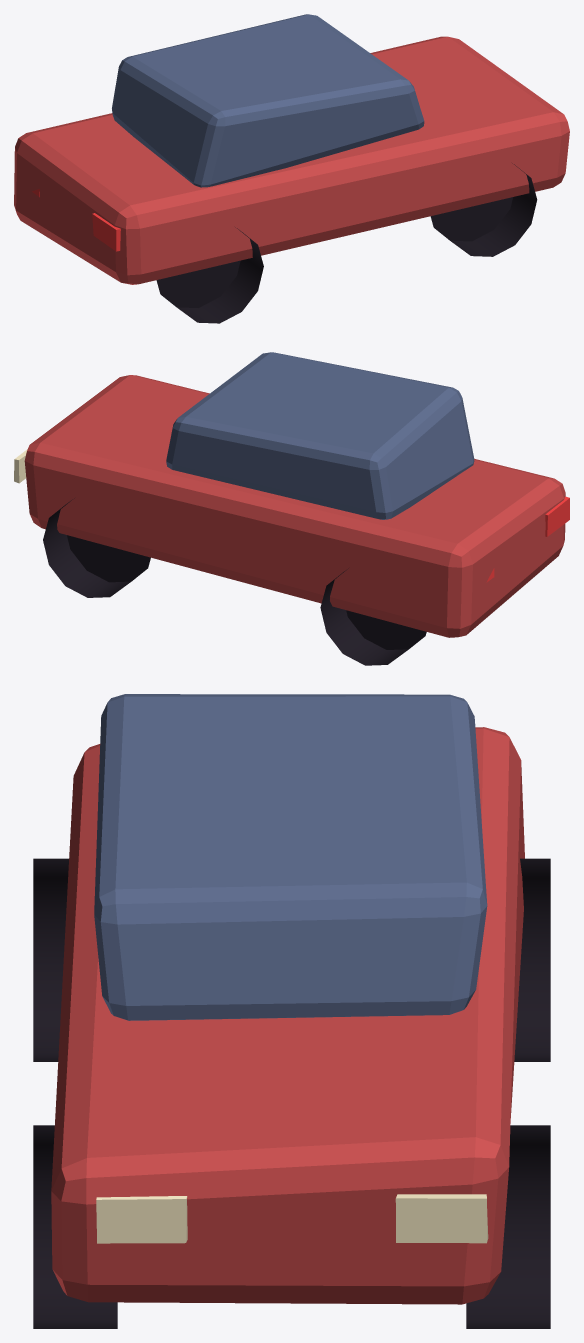
Rendered from car.glb.
3 renders of one model, top to bottom at view 1: azimuth 30°, elevation 25°; view 2: azimuth 150°, elevation 25°; view 3: azimuth 270°, elevation 25°, orthographic. The views are drawn at different scales.
Parts seen in each view (by area): view 1: body, glass, wheels, tail; view 2: body, glass, wheels, tail; view 3: body, glass, wheels, head.
Part boxes in pixels (x1,y1,x2,y2): body: [14, 36, 569, 284]; glass: [112, 14, 424, 187]; wheels: [156, 163, 537, 323]; tail: [32, 188, 120, 251]; body: [24, 375, 565, 637]; glass: [166, 352, 474, 519]; wheels: [43, 498, 426, 665]; tail: [486, 496, 569, 582]; body: [51, 727, 524, 1304]; glass: [94, 694, 487, 1020]; wheels: [33, 858, 550, 1328]; head: [96, 1194, 488, 1243].
Size of the model in its own units: 3.47 by 1.39 by 1.72.
